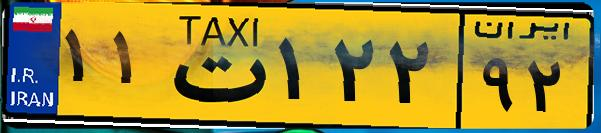1: (270, 28, 330, 110), (57, 26, 110, 100), (110, 28, 158, 98)
2: (385, 28, 445, 110), (330, 28, 385, 110), (525, 38, 570, 115)
9: (475, 38, 525, 113)
ت: (158, 12, 270, 120)
